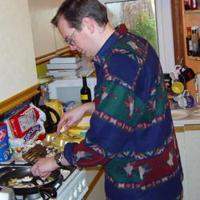person: (31, 1, 186, 200)
